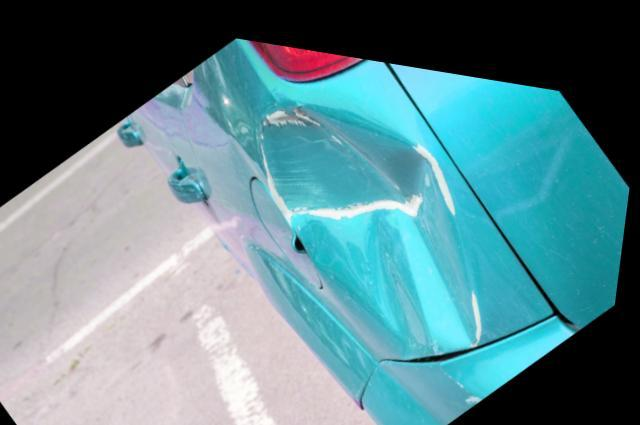dent: (260, 90, 489, 337)
